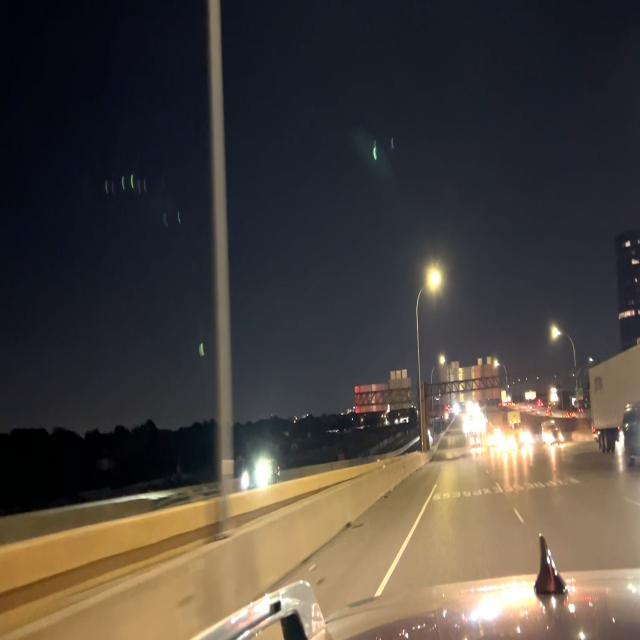back-of-sign: (434, 358, 501, 405), (353, 369, 413, 414)
